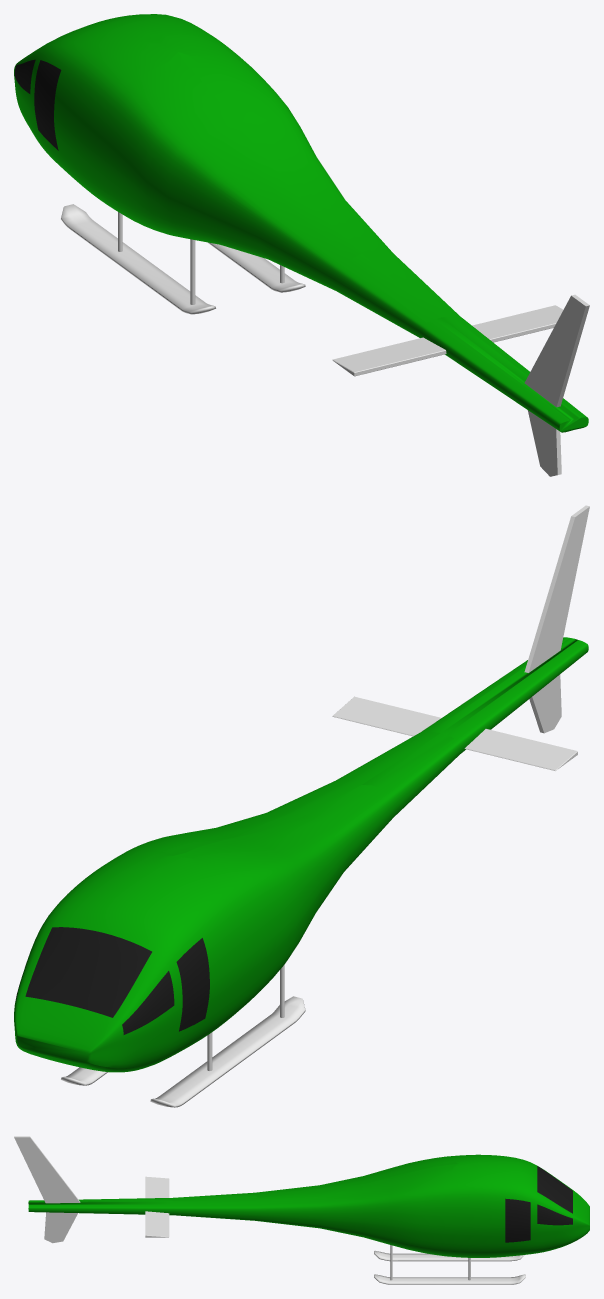
The model's file is Helicopter.fbx.
The picture shows the model from 3 angles, top to bottom: view 1: azimuth 30°, elevation 25°; view 2: azimuth 150°, elevation 25°; view 3: azimuth 270°, elevation 25°; orthographic projection. The views are drawn at different scales.
Visible parts, largest first — view 1: Helicopter; view 2: Helicopter; view 3: Helicopter.
Part boxes in pixels (x1,y1,x2,y2): Helicopter: (14,14,589,476); Helicopter: (14,505,589,1107); Helicopter: (14,1136,589,1284).
Size of the model in its own units: 550 by 2275 by 582.
